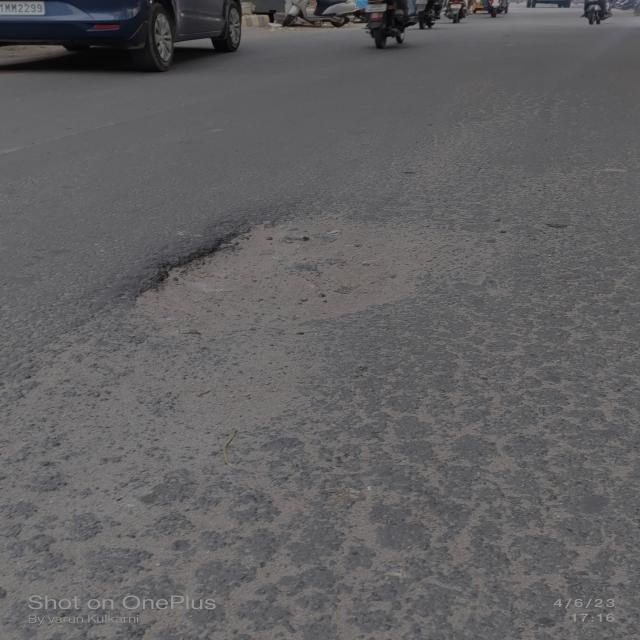potholes: (153, 210, 397, 326)
